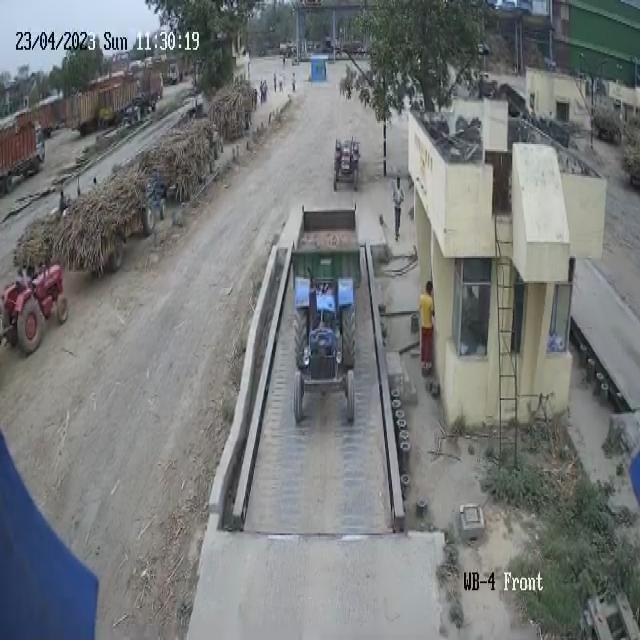Tratores - v5 YOLO V8L 2024-11-13: (290, 260, 363, 437), (2, 248, 72, 353), (332, 127, 363, 195)
